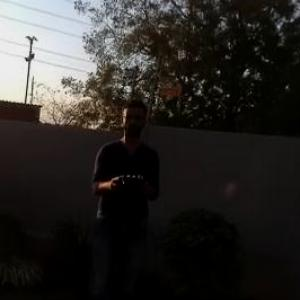follow: (86, 87, 166, 299)
